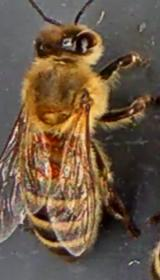varroa_mite: (32, 130, 67, 149), (36, 156, 66, 178)
